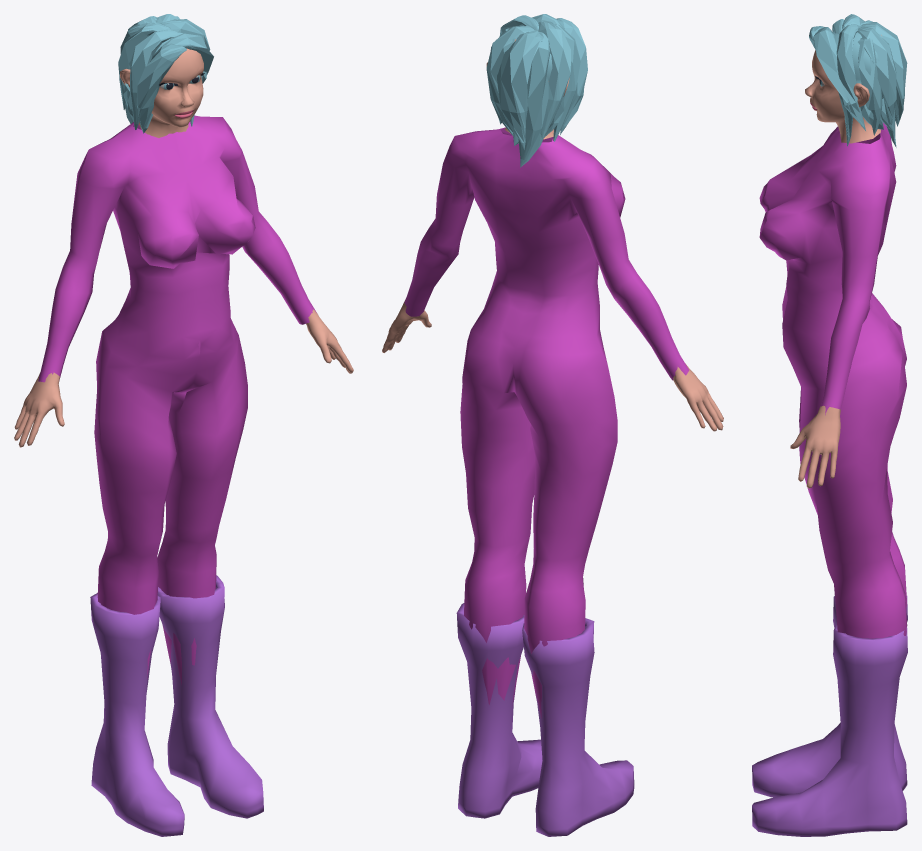
Rendered from 02-MISTURADO.fbx.
3 views of the same model, side by side, from view 1: azimuth 30°, elevation 25°; view 2: azimuth 150°, elevation 25°; view 3: azimuth 270°, elevation 25° (orthographic). The views are drawn at different scales.
Parts seen in each view (by area): view 1: Cylinder, CABELO; view 2: Cylinder, CABELO; view 3: Cylinder, CABELO.
Boxes of the visible parts, x1,y1,x2,y2 form: Cylinder: (14, 22, 353, 836); CABELO: (118, 14, 213, 133); Cylinder: (382, 25, 723, 836); CABELO: (486, 14, 587, 167); Cylinder: (752, 25, 907, 836); CABELO: (809, 14, 907, 147).
Bounding box in the file's own units: 68.99 × 154 × 27.7.
